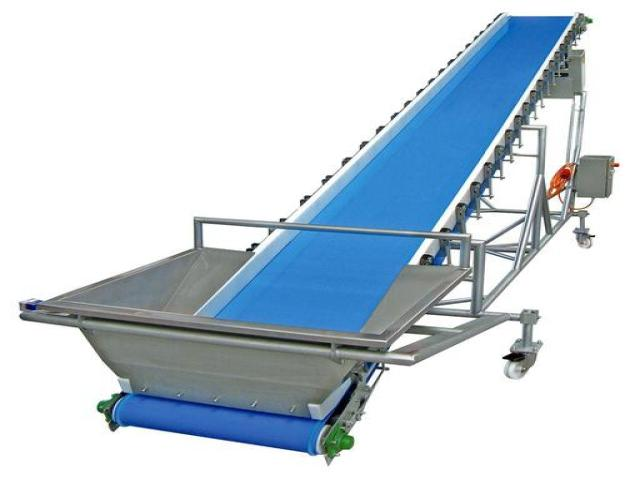conveyor: (15, 9, 614, 465)
